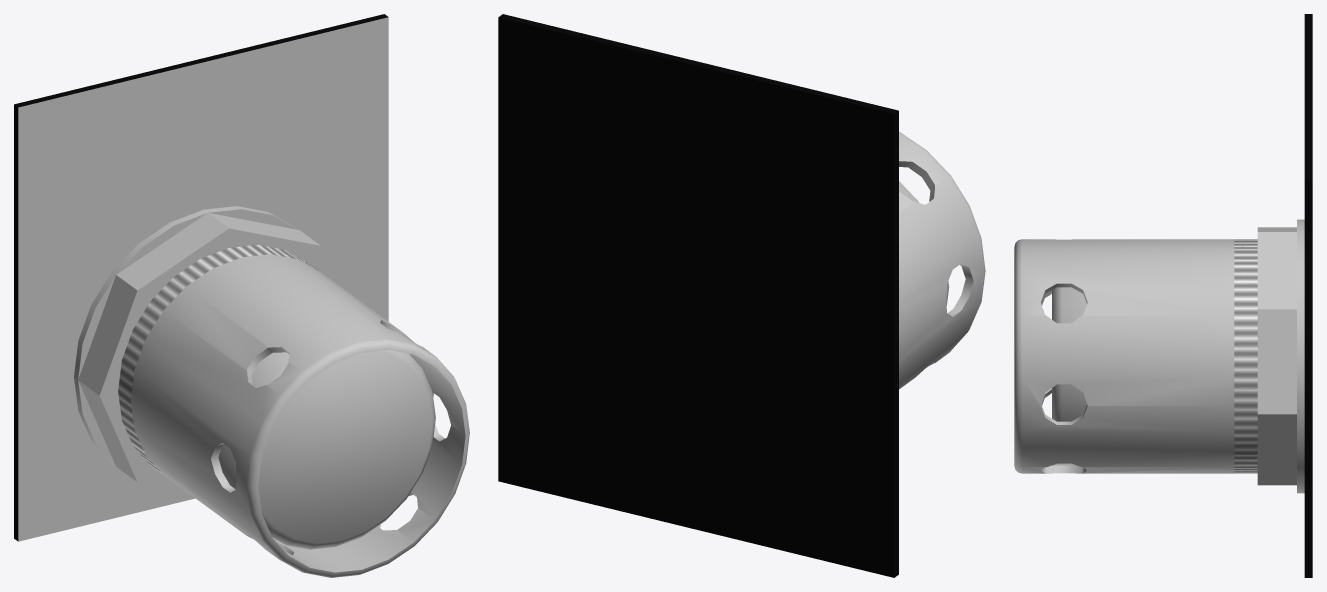
File: push_button_shielded.dae
3 renders of one model, left to right at view 1: azimuth 30°, elevation 25°; view 2: azimuth 150°, elevation 25°; view 3: azimuth 270°, elevation 25°, orthographic. The views are drawn at different scales.
Visible parts, largest first — view 1: placard (×2), button_shielded (×2), button (×2), housing_nut; view 2: placard, button_shielded; view 3: button_shielded (×2), housing_nut, placard, button (×2).
Part boxes in pixels (box(x1,y1,x2,y2)): placard (×2): box(14, 14, 388, 541); button_shielded (×2): box(118, 244, 469, 577); button (×2): box(218, 350, 435, 549); housing_nut: box(74, 206, 337, 491); placard: box(498, 14, 898, 577); button_shielded: box(899, 131, 985, 389); button_shielded (×2): box(1014, 239, 1257, 473); housing_nut: box(1257, 219, 1304, 493); placard: box(1304, 14, 1312, 577); button (×2): box(1052, 287, 1086, 421).
Size of the model in its own units: 1.97 by 1.5 by 2.2.
